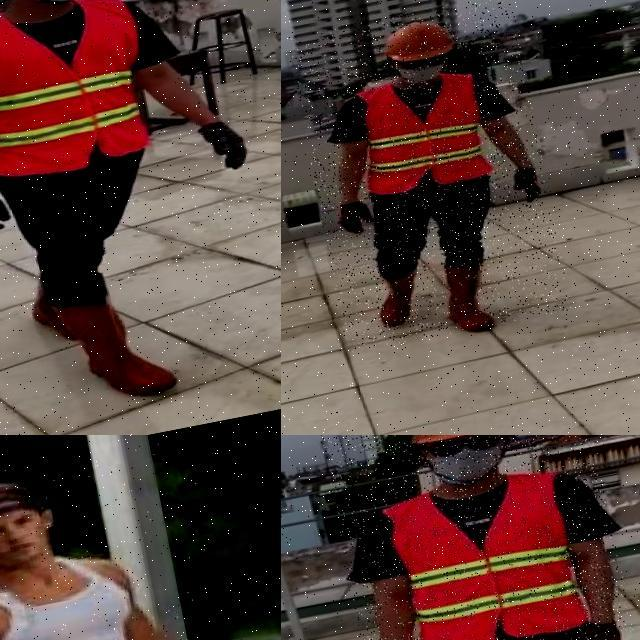boots: (54, 284, 181, 410), (443, 257, 504, 337), (24, 264, 77, 349), (358, 269, 429, 332)
helmet: (376, 12, 461, 70), (397, 435, 514, 453)
vest: (384, 468, 589, 640), (0, 0, 154, 185), (353, 70, 496, 198)
